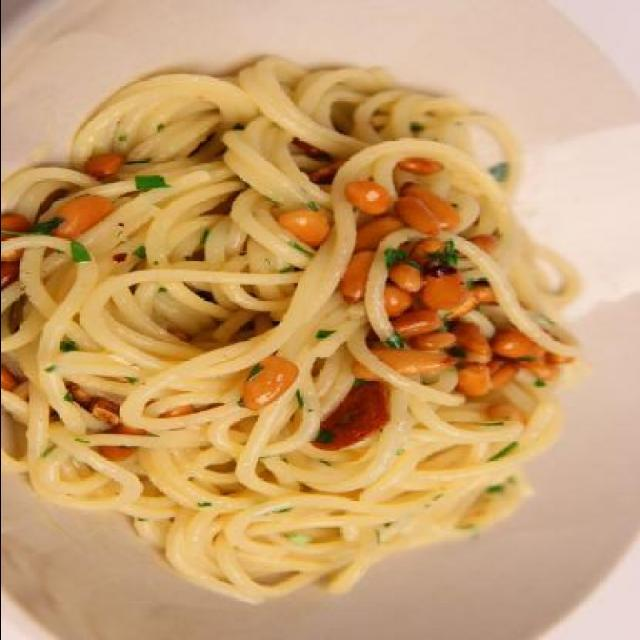Oil pasta: (0, 83, 558, 626)
